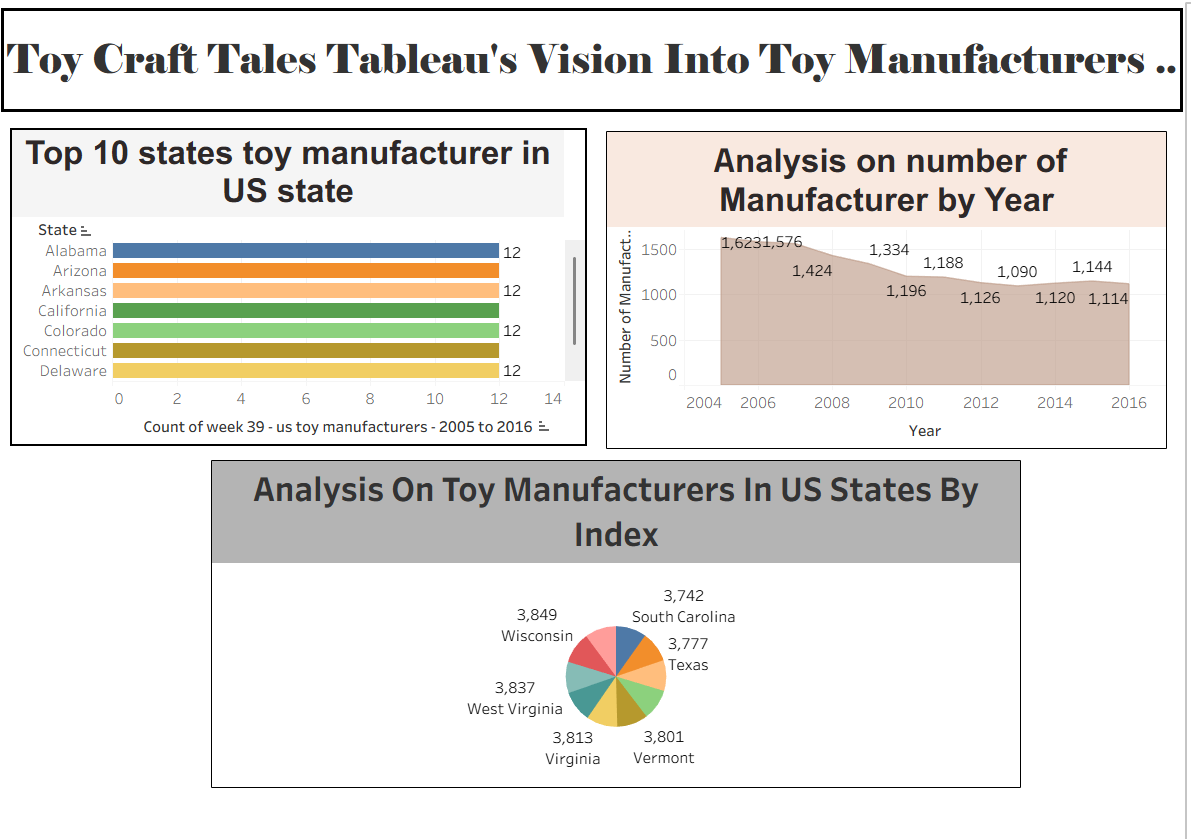

Layout of this report page (visuals, bound fields, positions):
{"tool":"tableau","page":{"name":"Dashboard 1","canvas":[1366,1568],"ordinal":0},"visuals":[{"type":"title","box":[8,8,1190,112]},{"type":"filter","title":"Sheet 1","param":"[federated.0gae5yv1qybhg811rf2az0j4dyct].[none:State:nk]","box":[1198,8,160,1240]},{"type":"worksheet","title":"Sheet 1","mark":"Automatic","rows":["State"],"cols":["week 39 - us toy manufacturers - 2005 to 2016_25F9B20A4EDD41"],"box":[31,132,567,423]},{"type":"worksheet","title":"Sheet 2","mark":"Area","rows":["Number of Manufacturers"],"cols":["Year"],"box":[628,135,550,417]},{"type":"worksheet","title":"Sheet 4","mark":"Automatic","box":[631,572,525,524]},{"type":"worksheet","title":"Sheet 3","mark":"Bar","rows":["index","index"],"cols":["Index (bin)"],"box":[27,577,579,518]},{"type":"worksheet","title":"Sheet 5","mark":"Pie","box":[218,1107,765,440]},{"type":"legend","title":"Sheet 1","param":"[federated.0gae5yv1qybhg811rf2az0j4dyct].[none:State:nk]","box":[1198,1248,160,240]},{"type":"legend","title":"Sheet 3","param":"[federated.0gae5yv1qybhg811rf2az0j4dyct].[:Measure Names]","box":[1198,1488,160,72]}]}

Visuals, with their boxes on the page's 1366x1568 design canvas (x1, y1, x2, y2). These are canvas units, not pixel positions in the 1191x839 screenshot, which may show the page scaled, cropped or inside an application window:
title: 8, 8, 1198, 120
"Sheet 1" filter: 1198, 8, 1358, 1248
"Sheet 1" worksheet: 31, 132, 598, 555
"Sheet 2" worksheet (Area marks): 628, 135, 1178, 552
"Sheet 4" worksheet: 631, 572, 1156, 1096
"Sheet 3" worksheet (Bar marks): 27, 577, 606, 1095
"Sheet 5" worksheet (Pie marks): 218, 1107, 983, 1547
"Sheet 1" legend: 1198, 1248, 1358, 1488
"Sheet 3" legend: 1198, 1488, 1358, 1560
